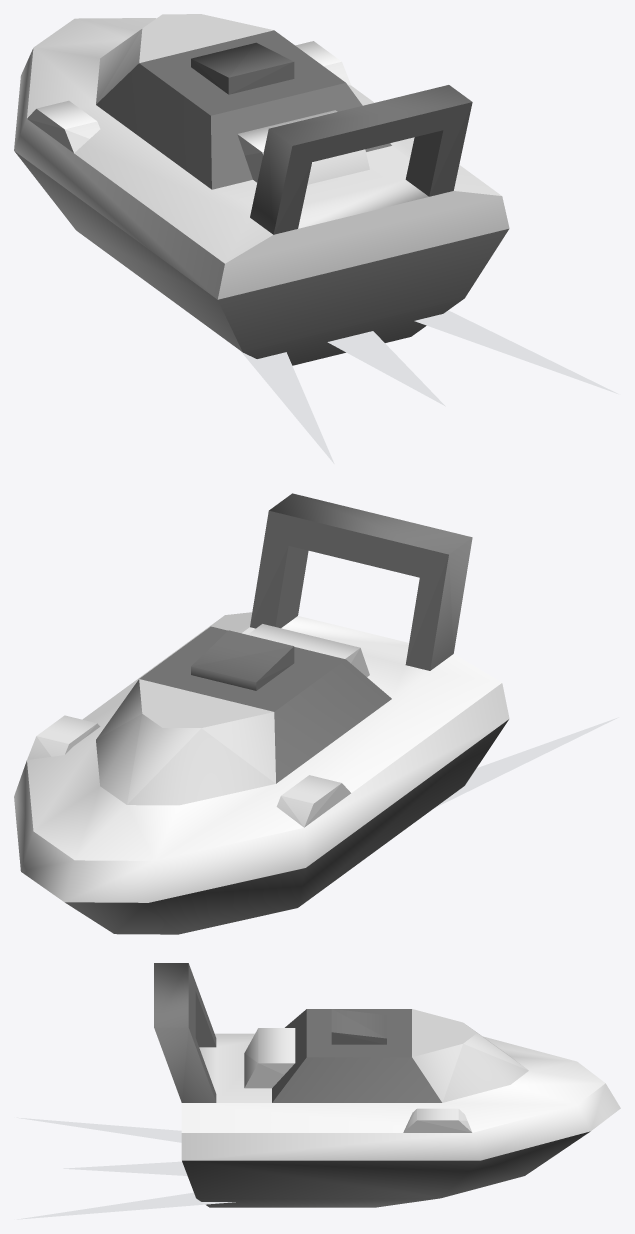
Rendered from channel_skiff.glb.
3 views of the same model, one above another, from view 1: azimuth 30°, elevation 25°; view 2: azimuth 150°, elevation 25°; view 3: azimuth 270°, elevation 25° (orthographic). The views are drawn at different scales.
Parts seen in each view (by area): view 1: Body, Wake; view 2: Body, Wake; view 3: Body, Wake.
Boxes of the visible parts, x1,y1,x2,y2 form: Body: [14, 14, 509, 365]; Wake: [241, 310, 618, 463]; Body: [14, 493, 509, 934]; Wake: [435, 717, 618, 807]; Body: [154, 963, 620, 1207]; Wake: [16, 1117, 235, 1219].
Bounding box in the file's own units: 3.71 × 3.12 × 9.1.
Materials: 3 (1 with a texture image).
